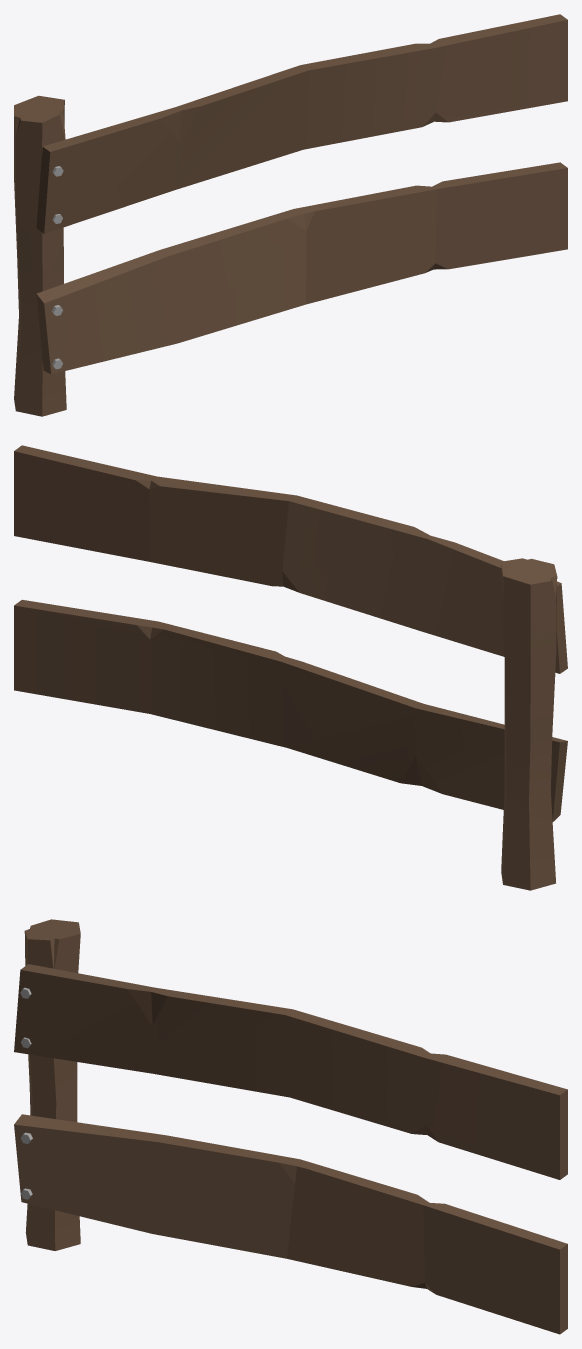
File: Finishedfence.fbx
3 views of the same model, one above another, from view 1: azimuth 30°, elevation 25°; view 2: azimuth 150°, elevation 25°; view 3: azimuth 330°, elevation 25° (orthographic). The views are drawn at different scales.
Parts seen in each view (by area): view 1: polySurface3, polySurface2, polySurface4; view 2: polySurface2, polySurface3, polySurface4; view 3: polySurface3, polySurface2, polySurface4.
Boxes of the visible parts, x1=… form: polySurface3: x1=36, y1=162, x2=567, y2=374; polySurface2: x1=36, y1=14, x2=567, y2=233; polySurface4: x1=14, y1=95, x2=66, y2=416; polySurface2: x1=14, y1=445, x2=567, y2=673; polySurface3: x1=14, y1=599, x2=567, y2=821; polySurface4: x1=501, y1=558, x2=557, y2=890; polySurface3: x1=14, y1=1114, x2=567, y2=1334; polySurface2: x1=14, y1=964, x2=567, y2=1179; polySurface4: x1=24, y1=919, x2=80, y2=1250.
Bounding box in the file's own units: 12.11 × 6.47 × 1.55.
